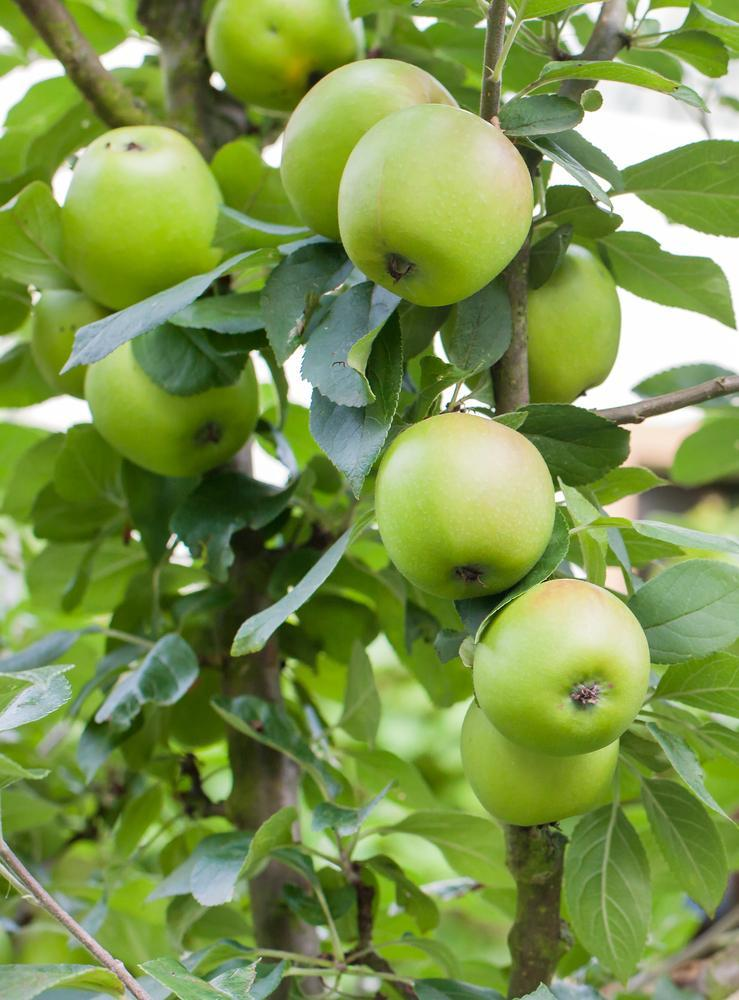apple: (329, 98, 527, 299), (282, 57, 473, 261), (369, 411, 554, 603), (470, 574, 652, 765), (57, 122, 223, 309), (86, 327, 267, 480), (458, 668, 633, 823), (511, 242, 620, 411), (206, 0, 361, 109)
